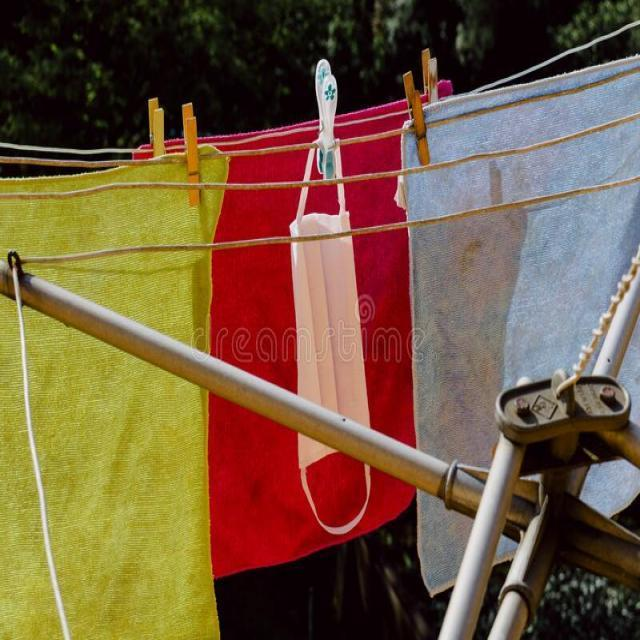clothes: (288, 292, 534, 371)
